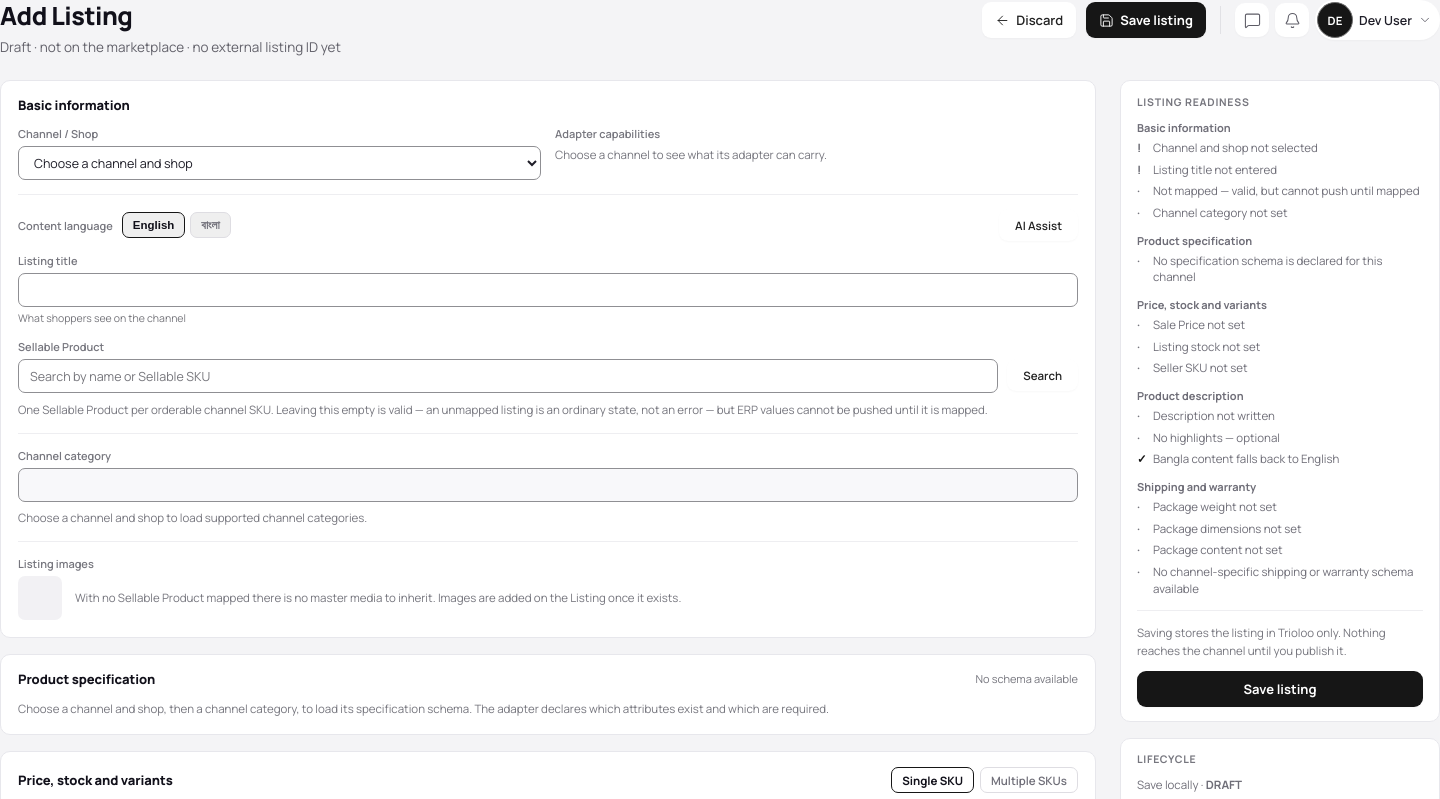
Test case: AI Assist — generation and context › claims no marketplace constraints when no adapter declares any
Select "Daraz account A" in the dropdown with test id "field-channel-instance". click: (280, 163)
box: [18,146,541,180]
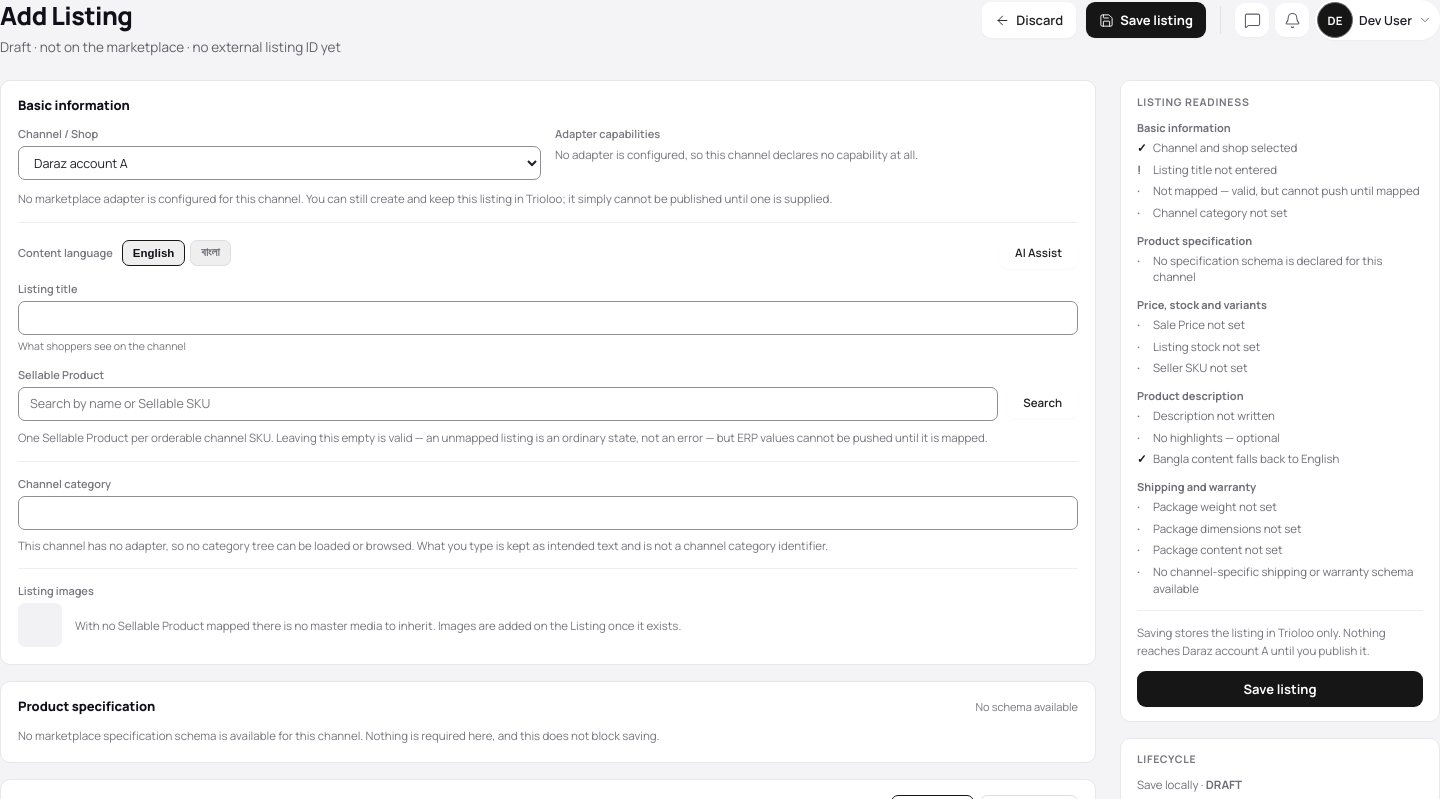
Click the button with test id "ai-assist-open". click: (1039, 253)
box: [999,237,1078,269]
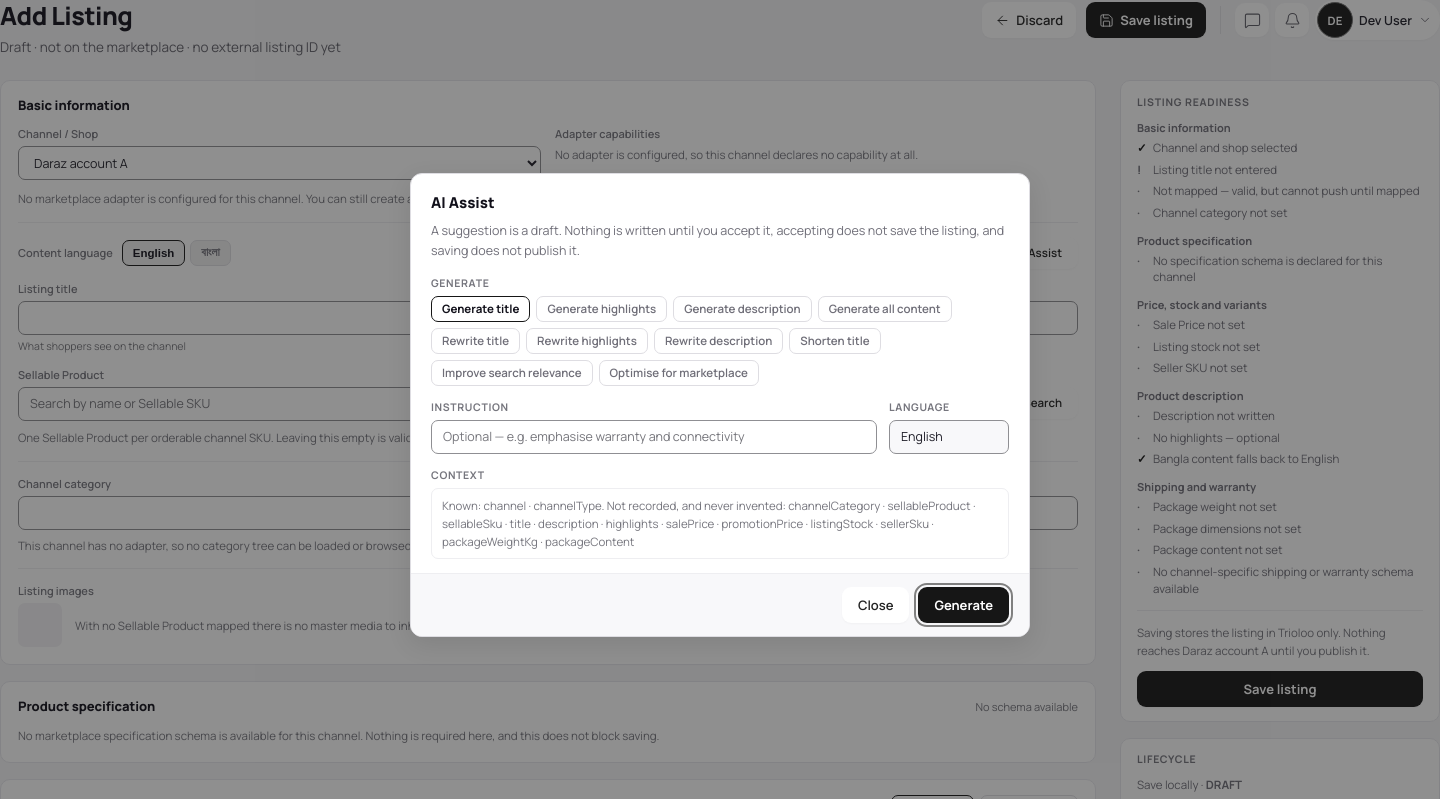
Check: the dialog with test id "ai-assist-dialog" is shown, box [410,173,1030,637]
Click the button with test id "ai-command-marketplace". click: (679, 373)
box: [599,360,759,386]
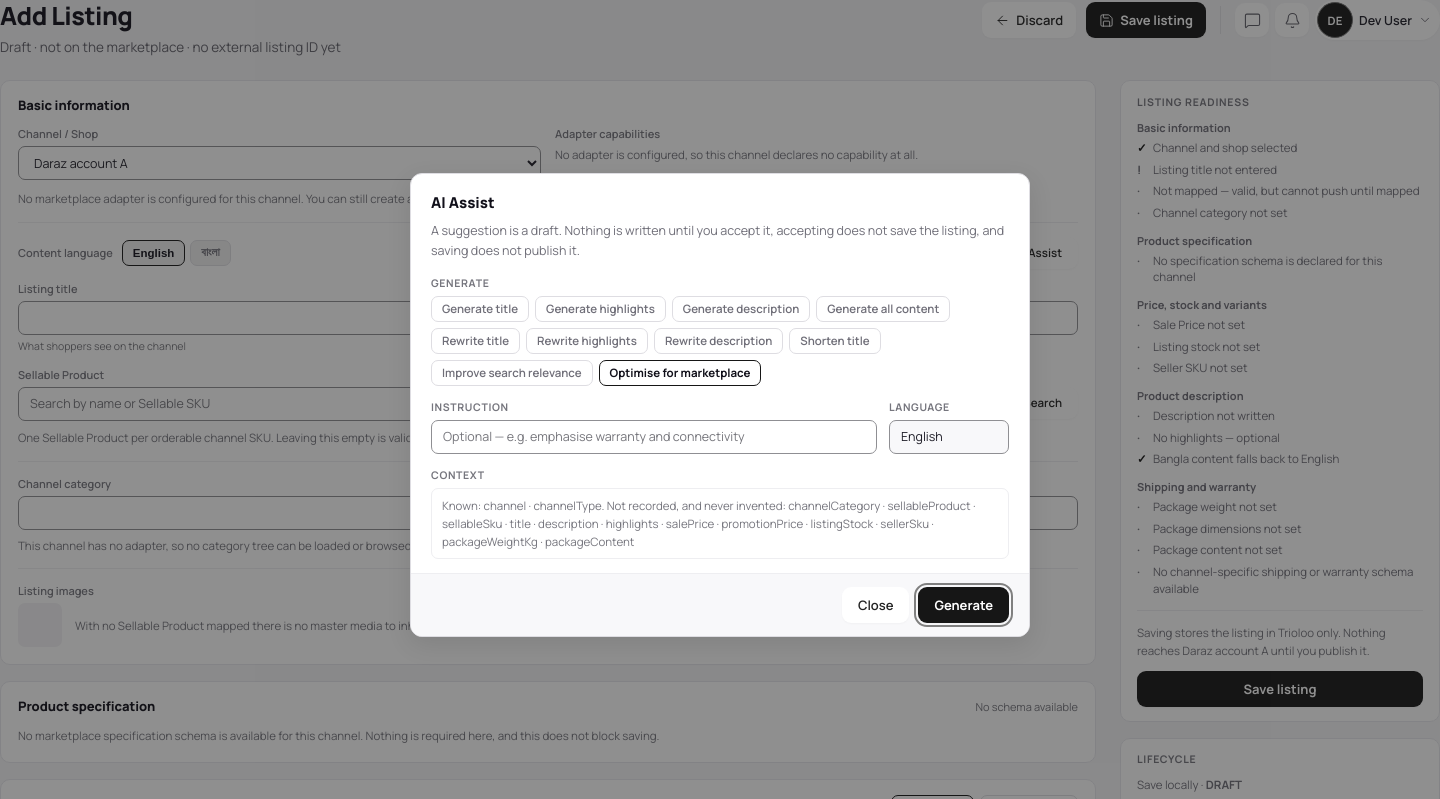
Click the button "Generate". click: (964, 605)
box: [918,587,1009,623]
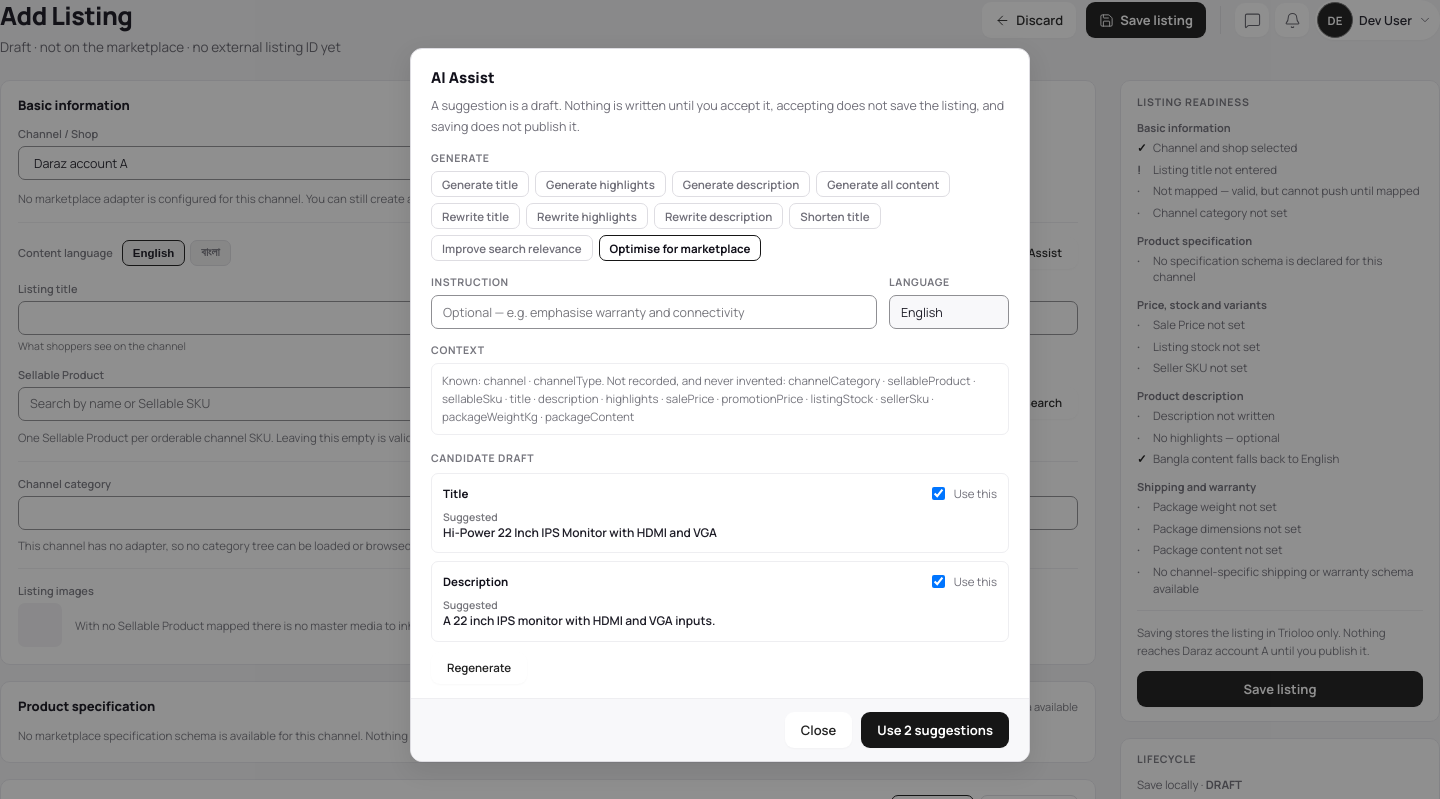
Check: the element with test id "ai-candidates" is shown, box [431,451,1009,684]
